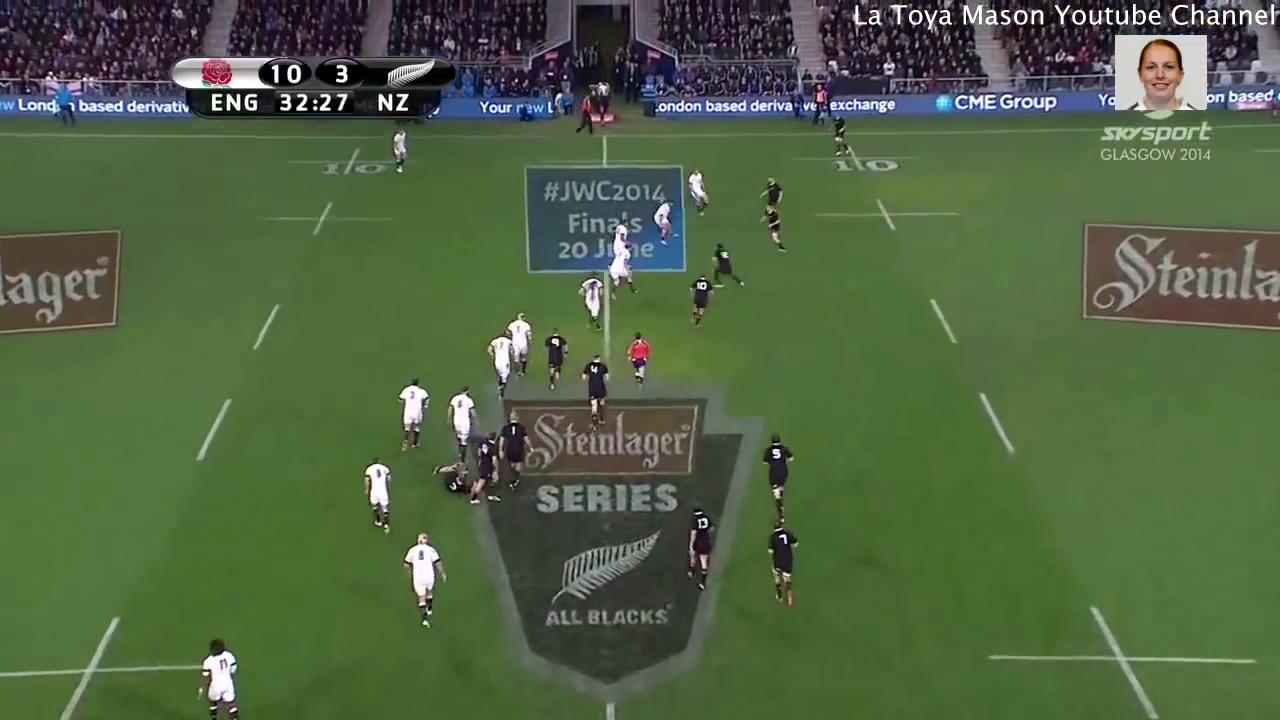10_metre: (978, 594, 1264, 720), (1, 606, 220, 720), (250, 199, 406, 241), (811, 192, 967, 233), (791, 140, 922, 180), (284, 143, 425, 178)
player: (393, 526, 453, 639), (752, 514, 805, 613), (190, 634, 251, 720), (356, 446, 404, 546), (755, 426, 801, 530), (677, 497, 722, 603), (437, 381, 480, 463), (461, 423, 501, 509), (424, 450, 490, 502), (701, 234, 750, 299), (392, 371, 429, 457), (577, 350, 612, 433), (482, 325, 515, 403), (496, 408, 527, 491), (599, 239, 641, 299), (679, 152, 714, 221), (573, 268, 608, 335), (507, 309, 537, 382), (539, 323, 571, 391), (618, 326, 653, 388), (757, 197, 791, 254), (685, 267, 717, 326), (383, 127, 417, 181), (645, 197, 679, 244), (757, 172, 793, 210), (825, 108, 851, 156), (607, 214, 632, 258)
